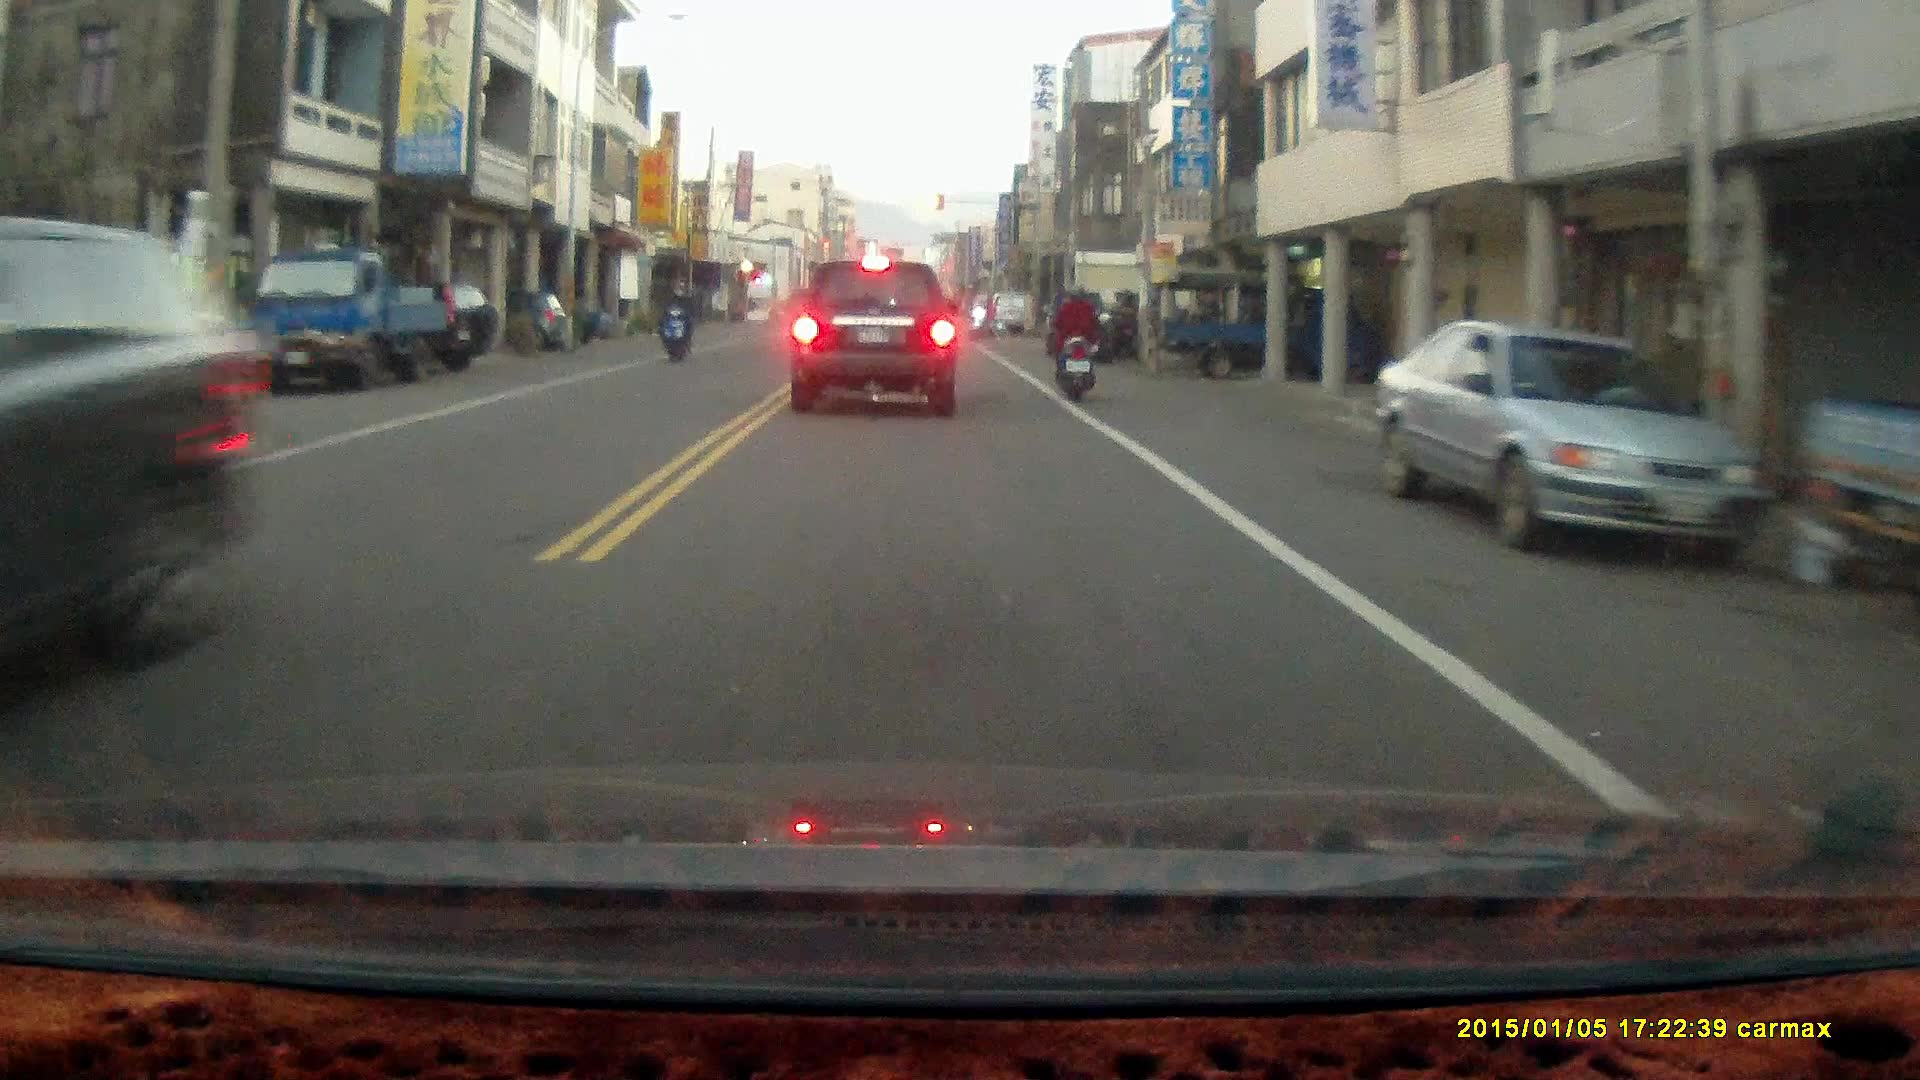rider: (1050, 278, 1100, 400), (658, 273, 697, 359), (967, 287, 1006, 335)
vehicle: (1, 211, 253, 735), (1371, 319, 1772, 578), (1154, 259, 1396, 377), (791, 257, 962, 418), (256, 245, 450, 383)
